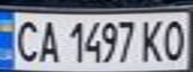1: (63, 18, 84, 63)
4: (81, 18, 103, 64)
7: (115, 17, 139, 64)
9: (100, 18, 121, 64)
A: (33, 17, 63, 64)
C: (9, 16, 42, 64)
K: (136, 16, 166, 63)
O: (160, 15, 190, 63)
